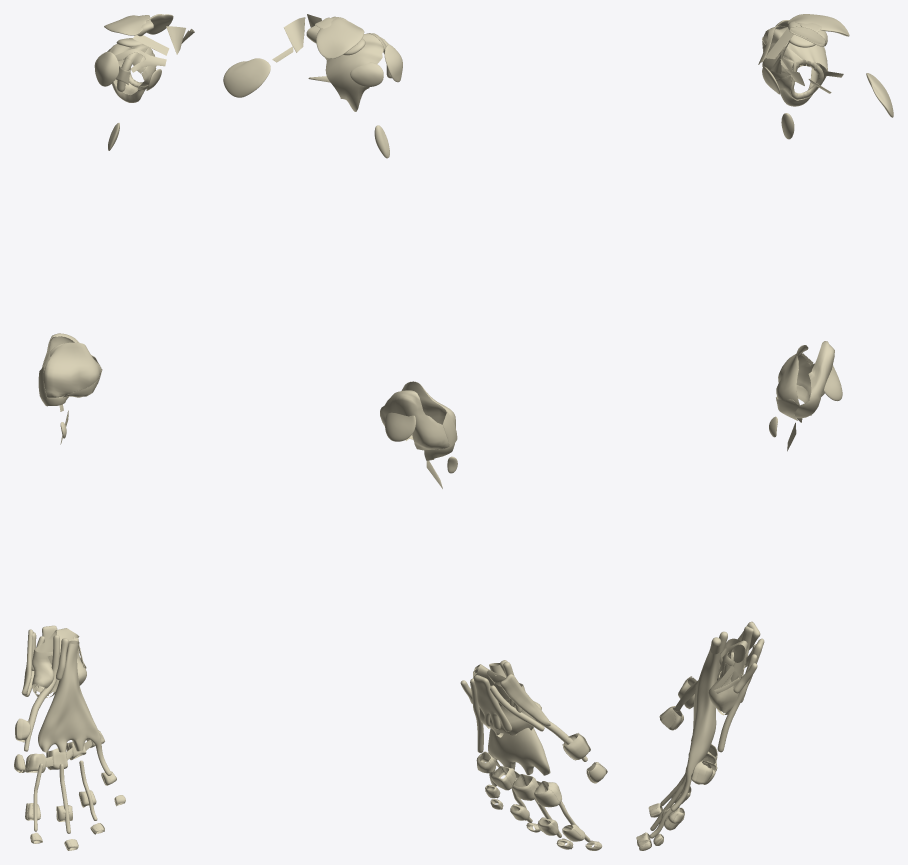
The model's file is joints.upper_limb_right.glb.
3 renders of one model, left to right at view 1: azimuth 30°, elevation 25°; view 2: azimuth 150°, elevation 25°; view 3: azimuth 270°, elevation 25°, orthographic. The views are drawn at different scales.
Visible parts, largest first — view 1: right_common_flexor_tendon_sheath, right_articular_capsule_of_elbow_joint, right_articular_capsule_of_radiocarpal_joint, right_articular_capsules_of_metacarpophalangeal_joints, right_synovial_sheaths_of_digits_of_hand, right_articular_capsule_of_glenohumeral_joint, right_tendon_sheath_of_flexor_pollicis_longus, right_subdeltoid_bursa, right_articular_capsules_of_proximal_interphalangeal_joints, right_subcutaneous_acromial_bursa, right_coracohumeral_ligament, right_articular_capsules_of_distal_interphalangeal_joints (+2 smaller); view 2: right_articular_capsule_of_elbow_joint, right_common_flexor_tendon_sheath, right_articular_capsules_of_metacarpophalangeal_joints, right_articular_capsule_of_glenohumeral_joint, right_subcutaneous_acromial_bursa, right_subtendinous_bursa_of_trapezius_muscle, right_articular_capsule_of_radiocarpal_joint, right_tendon_sheath_of_extensor_digitorum_and_extensor_indic, right_tendon_sheath_abd_pollicis_longus_ext_pollicis_brevis, right_articular_capsules_of_proximal_interphalangeal_joints, right_subtendinous_bursa_of_triceps_brachii_muscle; view 3: right_articular_capsule_of_elbow_joint, right_common_flexor_tendon_sheath, right_articular_capsule_of_radiocarpal_joint, right_articular_capsule_of_glenohumeral_joint, right_articular_capsules_of_metacarpophalangeal_joints, right_subcutaneous_acromial_bursa, right_synovial_sheaths_of_digits_of_hand, right_tendon_sheath_of_extensor_digiti_minimi_manus, right_articular_capsules_of_distal_interphalangeal_joints, right_glenoid_labrum.
Part boxes in pixels (x1,y1,x2,y2): right_common_flexor_tendon_sheath: (38,640,111,775); right_articular_capsule_of_elbow_joint: (41,333,101,397); right_articular_capsule_of_radiocarpal_joint: (32,628,86,697); right_articular_capsules_of_metacarpophalangeal_joints: (15,719,104,772); right_synovial_sheaths_of_digits_of_hand: (33,760,97,833); right_articular_capsule_of_glenohumeral_joint: (107,44,155,102); right_tendon_sheath_of_flexor_pollicis_longus: (24,635,59,751); right_subdeltoid_bursa: (95,51,118,86); right_articular_capsules_of_proximal_interphalangeal_joints: (27,771,116,821); right_subcutaneous_acromial_bursa: (104,15,146,35); right_coracohumeral_ligament: (115,48,166,72); right_articular_capsules_of_distal_interphalangeal_joints: (14,754,125,850); right_articular_capsule_of_elbow_joint: (380,381,455,450); right_common_flexor_tendon_sheath: (488,663,550,786); right_articular_capsules_of_metacarpophalangeal_joints: (476,733,589,807); right_articular_capsule_of_glenohumeral_joint: (325,33,384,111); right_subcutaneous_acromial_bursa: (316,18,364,58); right_subtendinous_bursa_of_trapezius_muscle: (223,58,270,97); right_articular_capsule_of_radiocarpal_joint: (473,664,541,737); right_tendon_sheath_of_extensor_digitorum_and_extensor_indic: (474,675,511,731); right_tendon_sheath_abd_pollicis_longus_ext_pollicis_brevis: (500,674,550,726); right_articular_capsules_of_proximal_interphalangeal_joints: (485,784,584,841); right_subtendinous_bursa_of_triceps_brachii_muscle: (385,412,415,441); right_articular_capsule_of_elbow_joint: (776,341,834,418); right_common_flexor_tendon_sheath: (671,645,720,811); right_articular_capsule_of_radiocarpal_joint: (708,638,747,715); right_articular_capsule_of_glenohumeral_joint: (765,27,827,106); right_articular_capsules_of_metacarpophalangeal_joints: (678,677,717,784); right_subcutaneous_acromial_bursa: (787,14,849,36); right_synovial_sheaths_of_digits_of_hand: (649,766,686,838); right_tendon_sheath_of_extensor_digiti_minimi_manus: (717,654,757,752); right_articular_capsules_of_distal_interphalangeal_joints: (637,707,682,850); right_glenoid_labrum: (791,59,823,99).
Size of the model in its own units: 0.2404 by 0.6954 by 0.1793.
